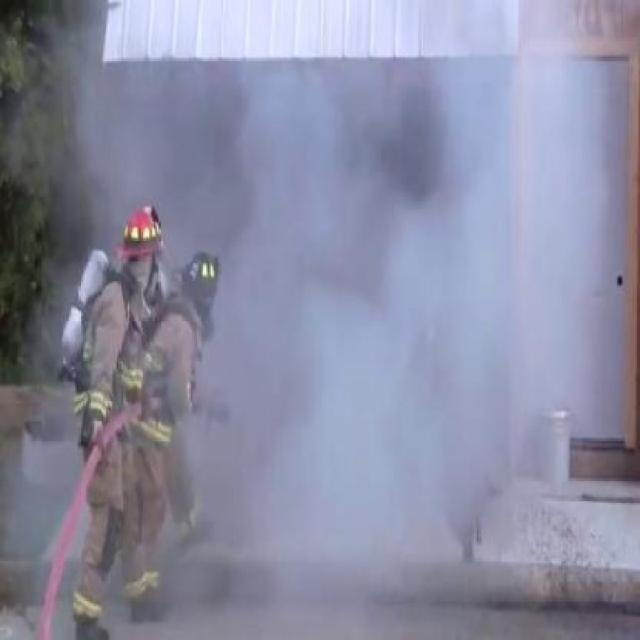smoke: (228, 206, 516, 629), (88, 65, 568, 198)
